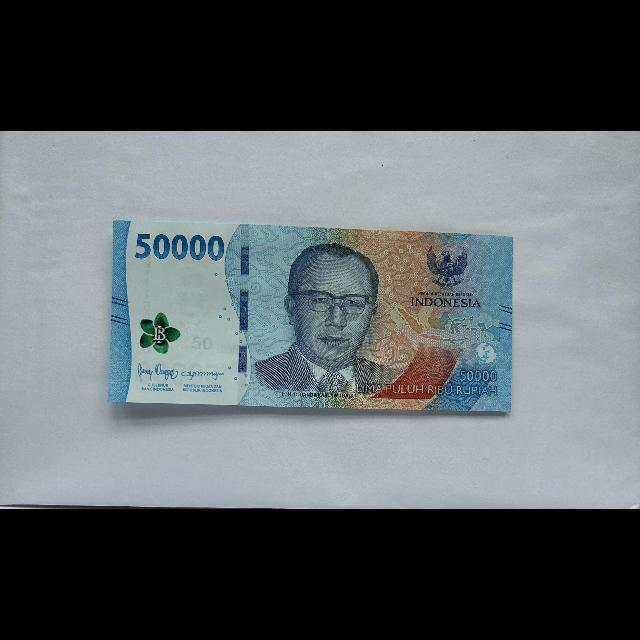Asli-50k: (102, 217, 521, 422)
Tinta-Asli-50k: (139, 312, 181, 354)
